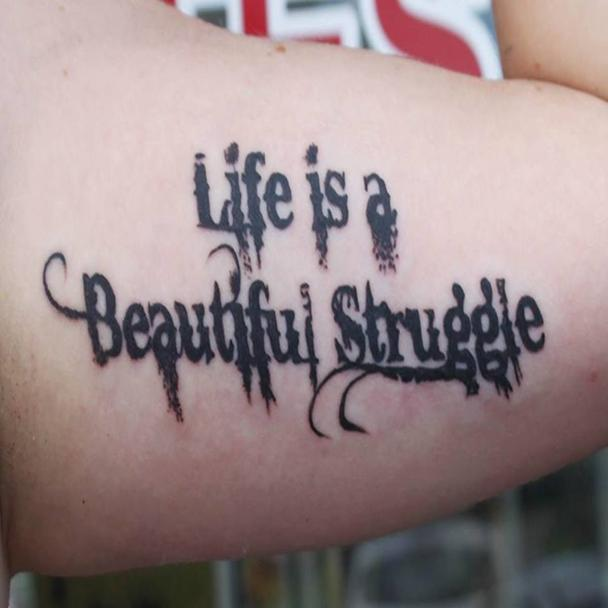tattoos: (40, 142, 547, 442)
